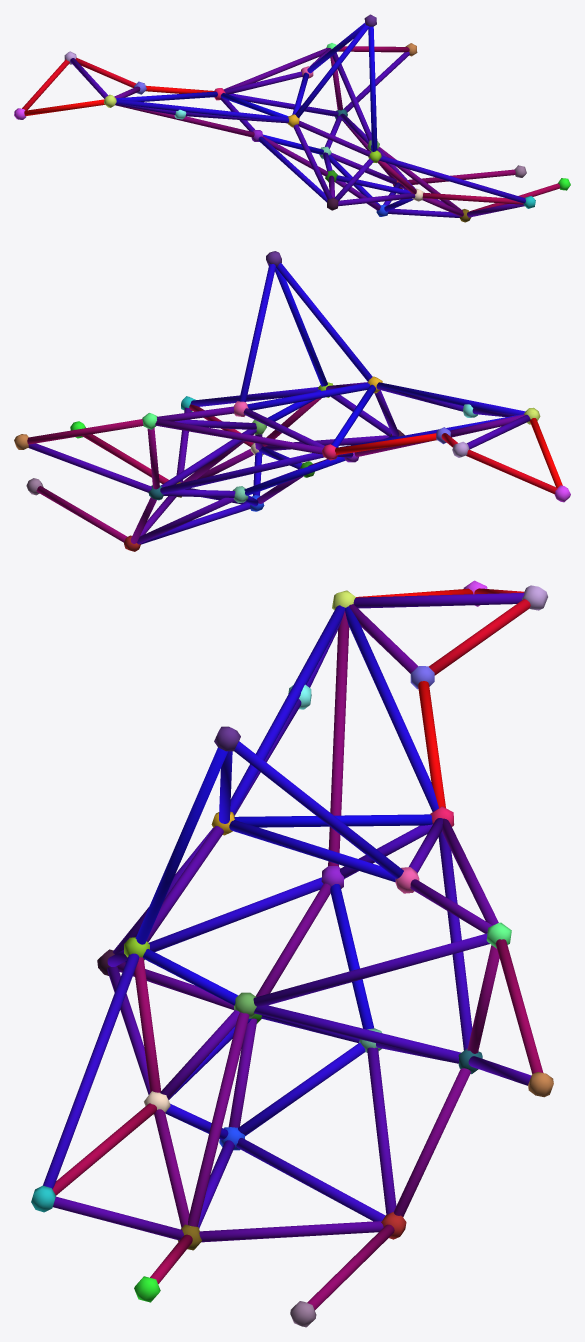
File: fg-00010-skel.obj
3 renders of one model, top to bottom at view 1: azimuth 30°, elevation 25°; view 2: azimuth 150°, elevation 25°; view 3: azimuth 270°, elevation 25°, orthographic. The views are drawn at different scales.
Size of the model in its own units: 0.3947 by 0.1764 by 0.189.
Materials: 1 (1 with a texture image).
